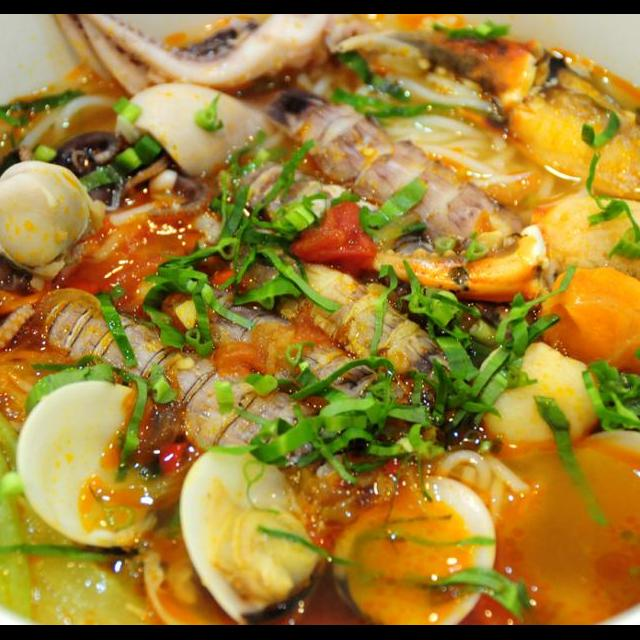bun: (343, 62, 565, 214), (421, 434, 541, 534)
bun hai san: (0, 66, 640, 620)
muc: (0, 150, 117, 362), (100, 74, 278, 194)
tom tit: (18, 284, 343, 488), (257, 74, 528, 266), (129, 272, 406, 428), (218, 240, 457, 396), (220, 156, 452, 288)
